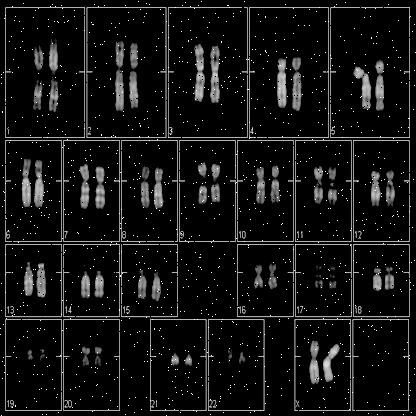1: (30, 33, 46, 113), (48, 35, 61, 116)
10: (269, 164, 281, 204), (256, 166, 266, 206)
11: (313, 162, 325, 206), (327, 164, 338, 210)
12: (369, 167, 382, 209), (384, 166, 396, 210)
13: (35, 261, 50, 299), (22, 262, 34, 298)
14: (79, 262, 91, 301), (93, 265, 106, 301)
15: (149, 268, 162, 305), (136, 268, 148, 302)
16: (251, 263, 266, 289), (268, 260, 280, 292)
17: (314, 262, 325, 292), (328, 263, 338, 292)
18: (384, 265, 396, 294), (372, 265, 382, 292)
19: (24, 345, 34, 367), (36, 343, 46, 365)
2: (128, 38, 142, 112), (112, 36, 125, 114)
20: (80, 342, 92, 368), (94, 344, 102, 366)
21: (170, 350, 180, 369), (184, 350, 194, 367)
22: (226, 348, 235, 368), (238, 348, 247, 368)
3: (192, 41, 207, 104), (208, 44, 222, 106)
4: (290, 56, 304, 113), (274, 55, 288, 110)
5: (352, 64, 372, 112), (374, 56, 386, 113)
6: (20, 156, 32, 209), (34, 158, 46, 208)
7: (78, 162, 90, 211), (94, 166, 107, 210)
8: (154, 164, 164, 212), (140, 164, 150, 210)
9: (196, 160, 209, 208), (210, 161, 223, 207)
X: (323, 343, 341, 384), (308, 338, 321, 386)
